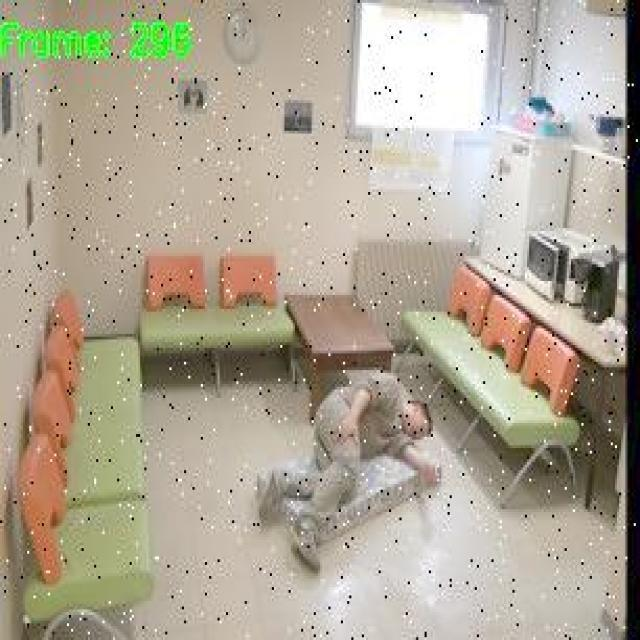fall: (246, 369, 442, 577)
